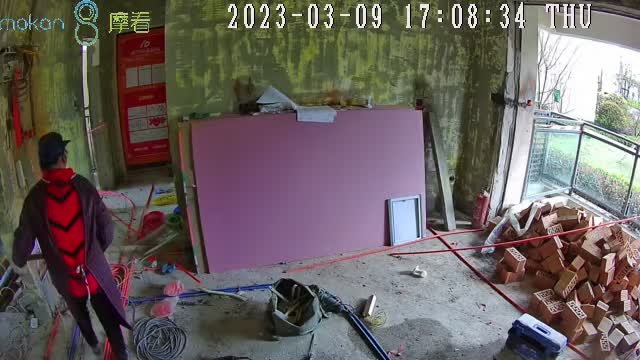people: (12, 133, 131, 360)
window: (534, 25, 640, 223)
